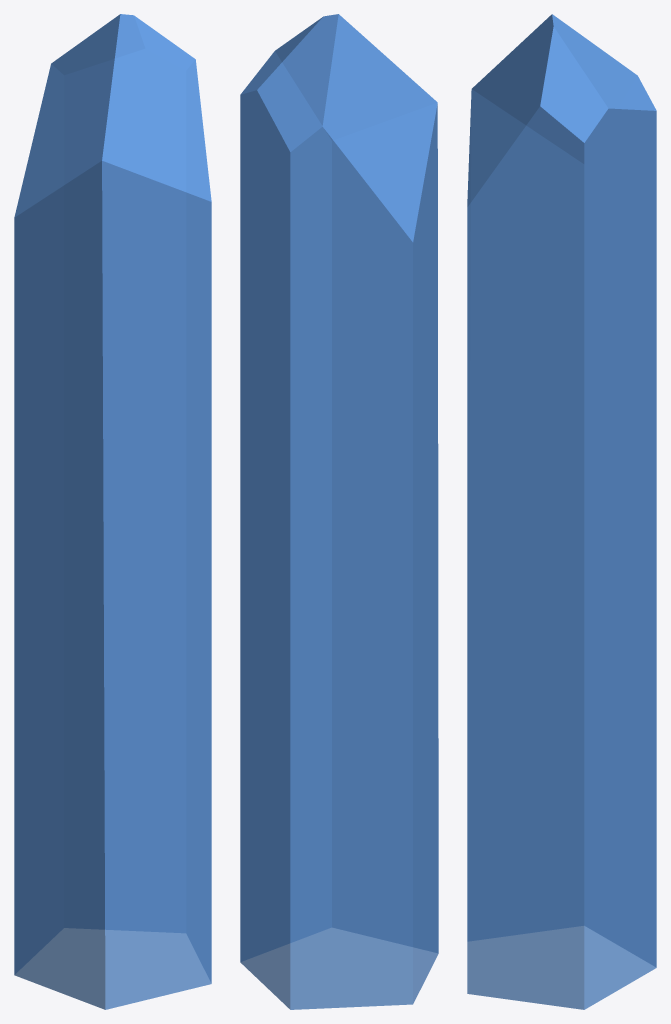
File: Crystal_s_04 2.fbx
3 renders of one model, left to right at view 1: azimuth 30°, elevation 25°; view 2: azimuth 150°, elevation 25°; view 3: azimuth 270°, elevation 25°, orthographic.
Parts seen in each view (by area): view 1: Crystal_s_04; view 2: Crystal_s_04; view 3: Crystal_s_04.
Boxes of the visible parts, x1,y1,x2,y2 form: Crystal_s_04: (14,14,211,1009); Crystal_s_04: (240,14,438,1009); Crystal_s_04: (467,14,656,1009).
Bounding box in the file's own units: 21.22 × 112 × 20.18.
